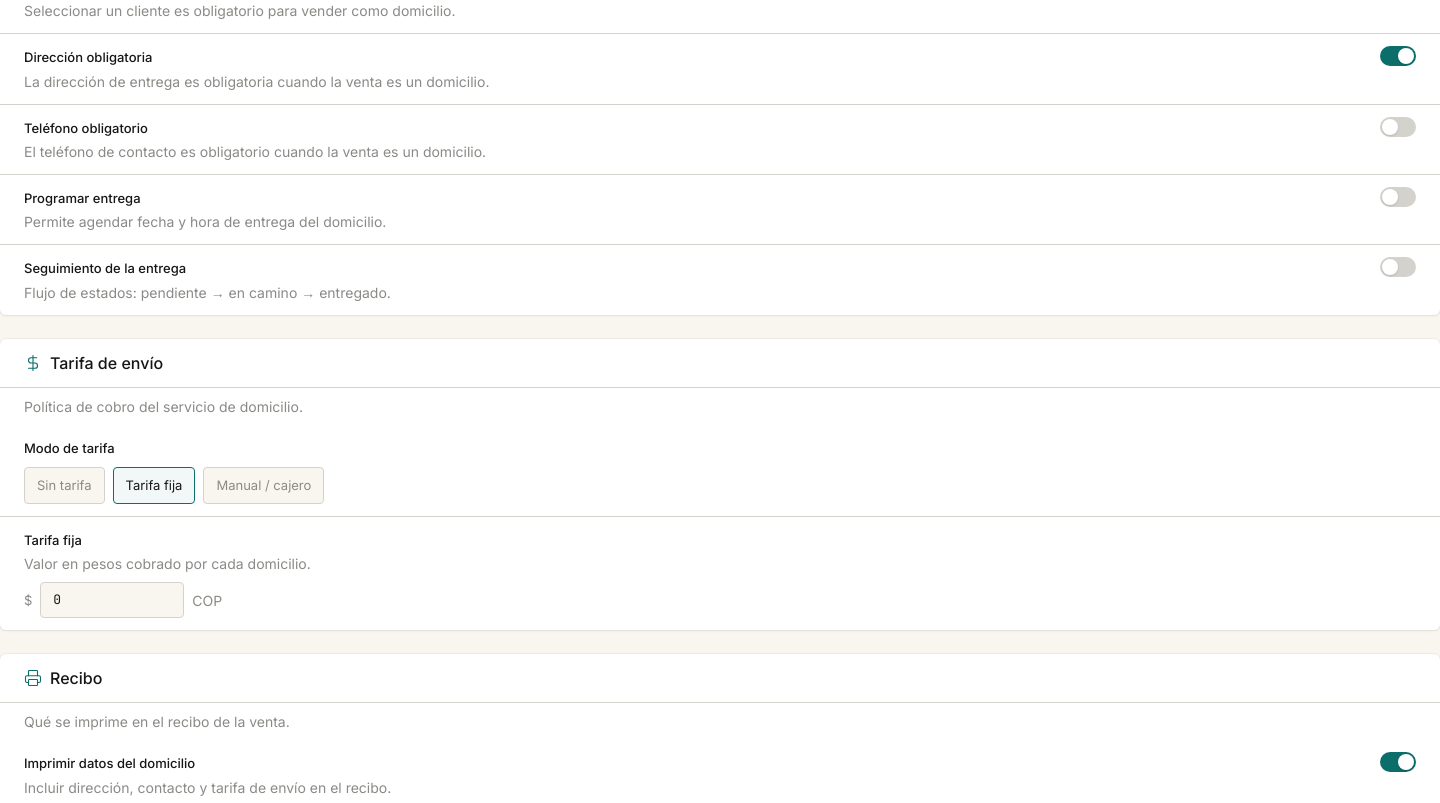
Test: DeliveryConfigTab › fee mode switching › clears the stale fixed fee error when switching from FIXED to DISABLED
(page scrolled)
Clear the field labelled "Tarifa fija" at (112, 600), box [40,582,184,618]
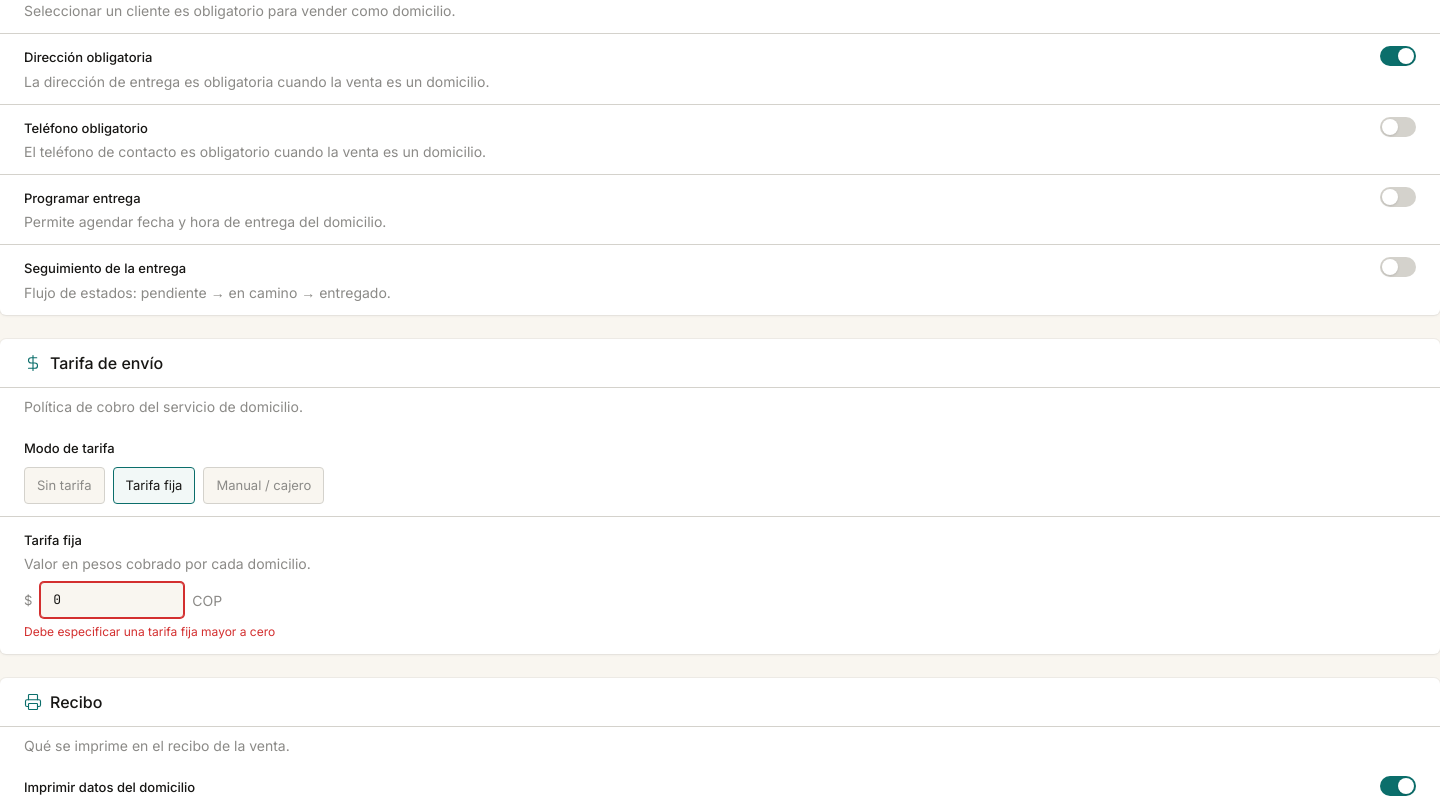
Expected: the message "Debe especificar una tarifa fija mayor a cero" is shown, [24,624,275,639]
Click the radio button labelled "Sin tarifa".
click(64, 485)  # box [24,467,104,504]
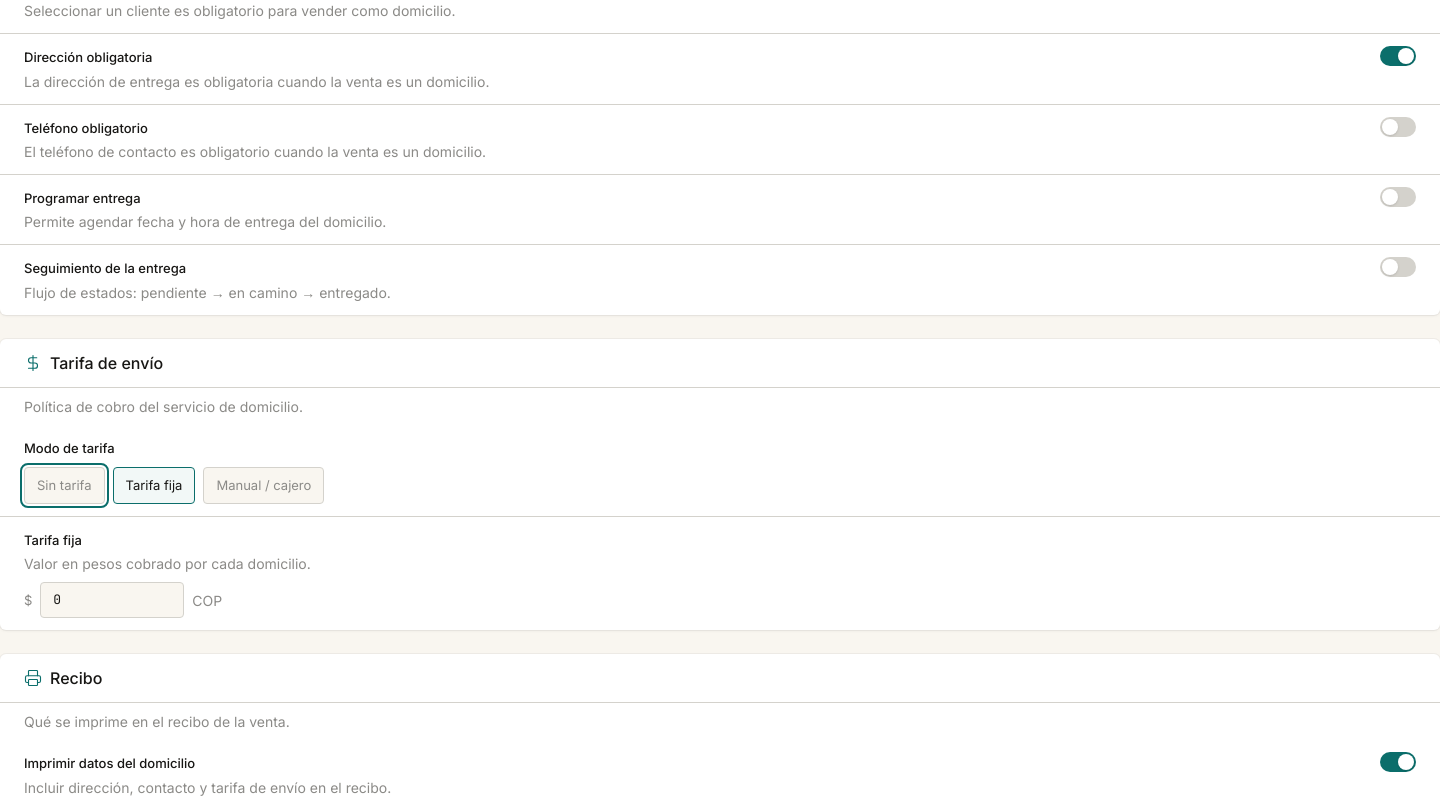
Expected: the message "Debe especificar una tarifa fija mayor a cero" is gone
